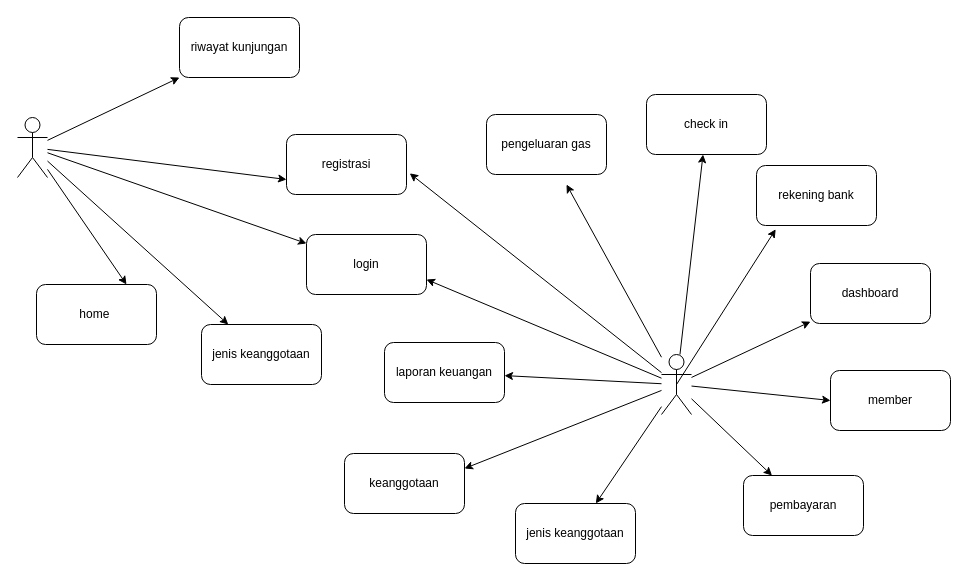
Image size: 968x581. Some labels were removed from this diagram. The shapes that lost their labels are listed below. From the top down, each one's centre as x and y in pixels, then its label:
At pixel 32 147: "user".
At pixel 676 384: "Actor".
